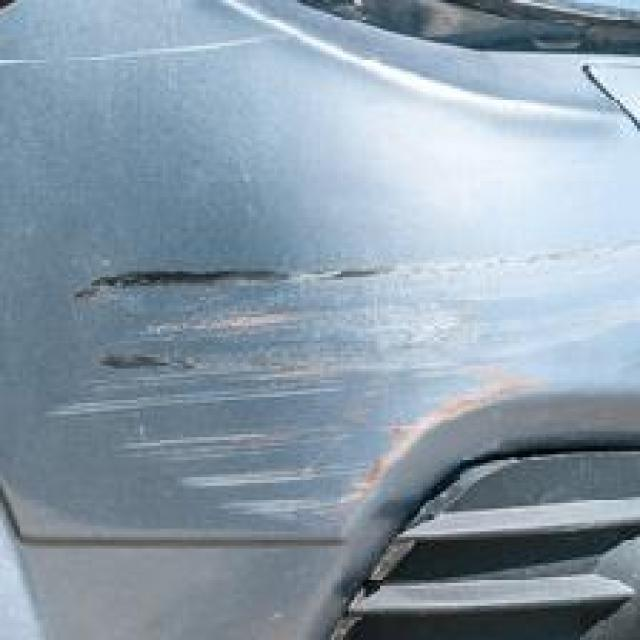damaged: (45, 234, 638, 506), (0, 34, 297, 72)
